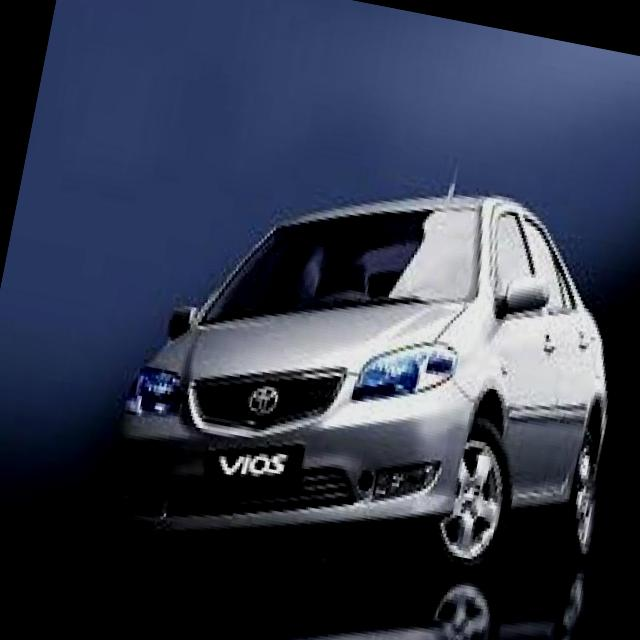ToyotaVios: (92, 121, 640, 621)
